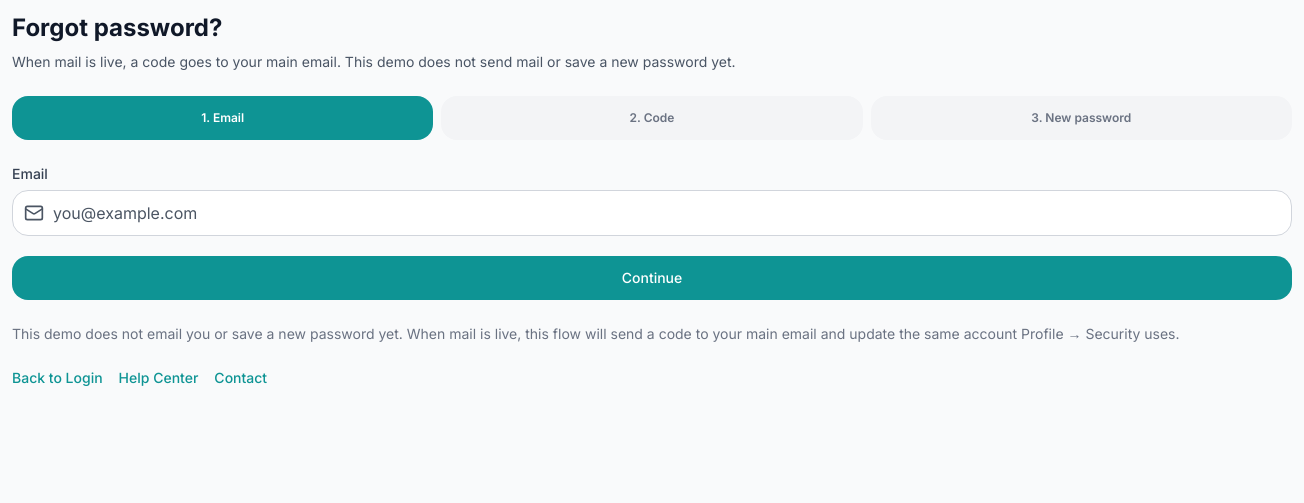
Test case: ForgotPasswordPage › walks email, mock OTP, and password without saving a new password
Type "anyone@example.com" into the field labelled "Email" at (652, 213), box [12,190,1292,236]
Click the button "Continue" at (652, 278), box [12,256,1292,300]
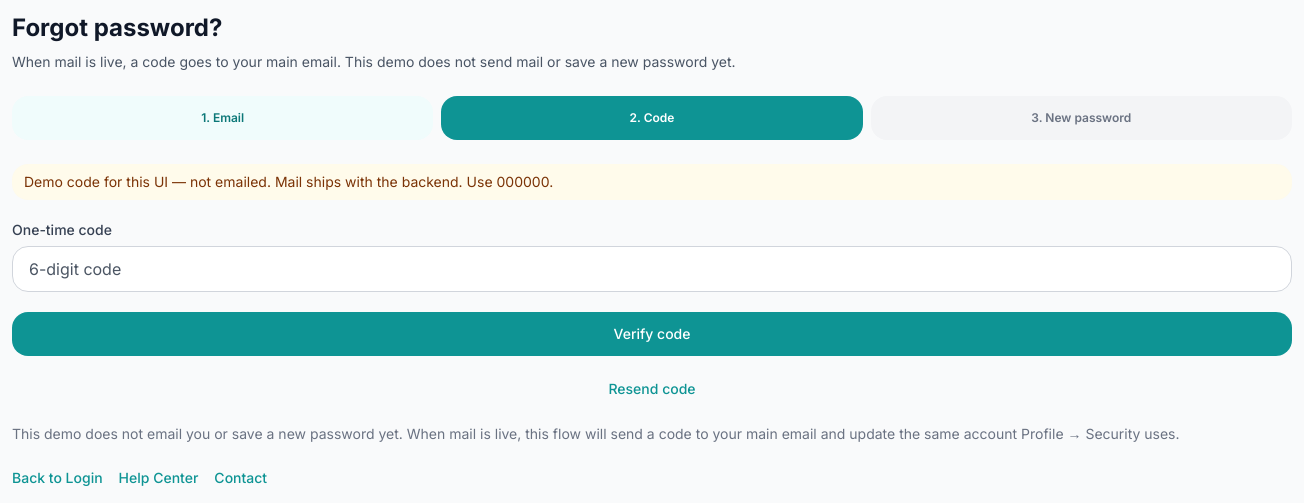
Check: the text "not emailed" is shown, box [24,173,553,190]
Type "000000" into the field labelled "One-time code" at (652, 269), box [12,246,1292,292]
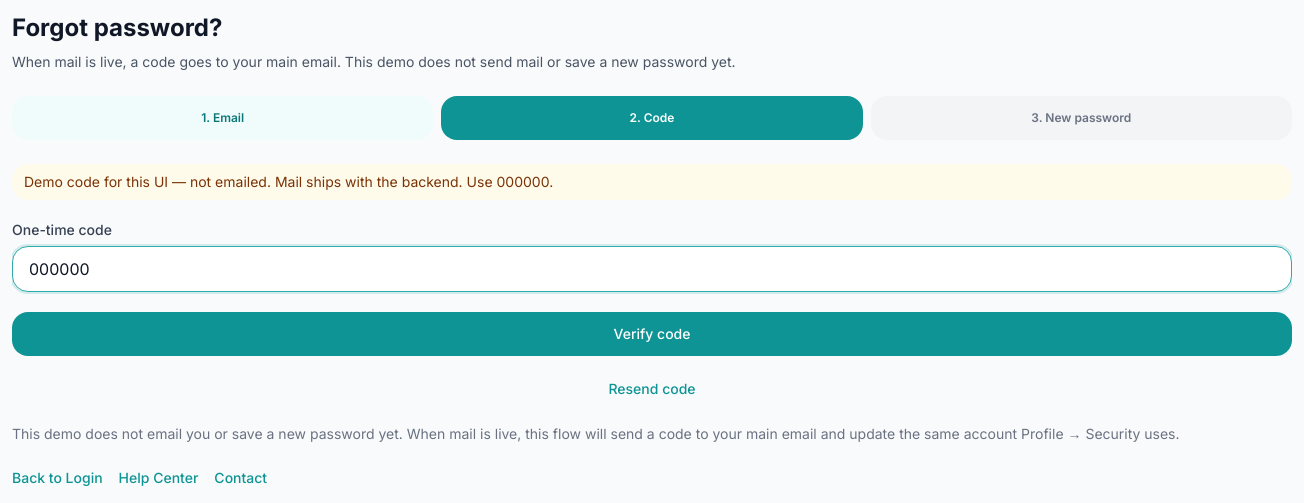
Click the button "Verify code" at (652, 334), box [12,312,1292,356]
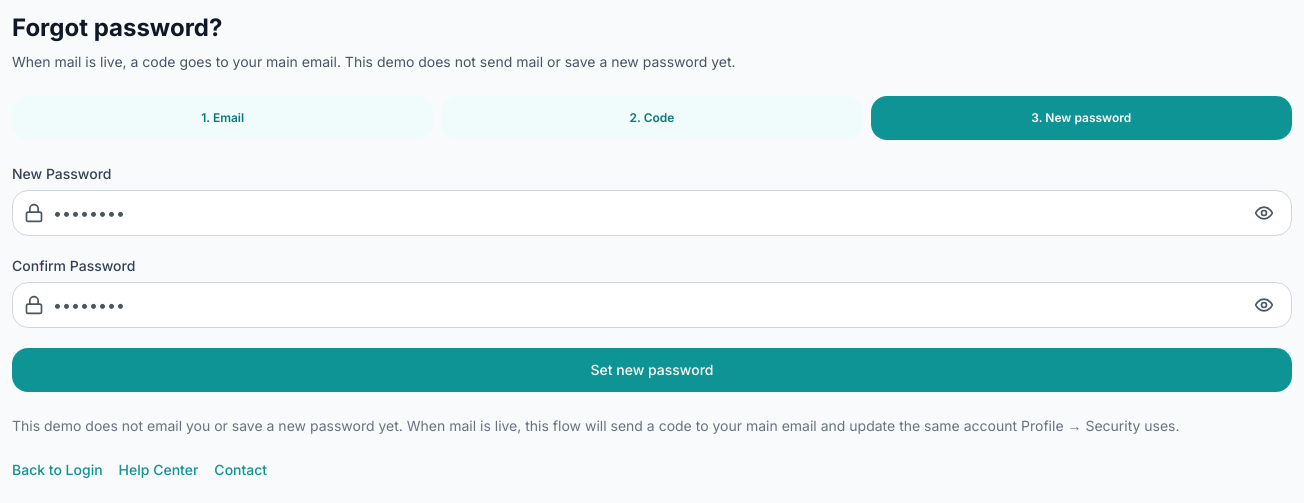
Type "changed99" into the password field labelled "New Password" at (652, 213), box [12,190,1292,236]
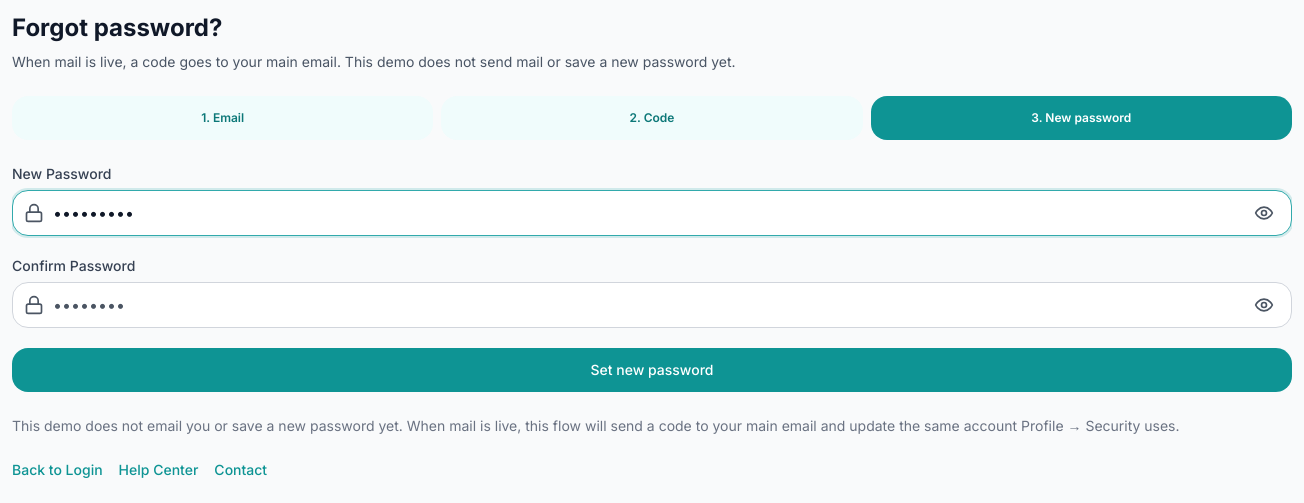
Type "changed99" into the password field labelled "Confirm Password" at (652, 305), box [12,282,1292,328]
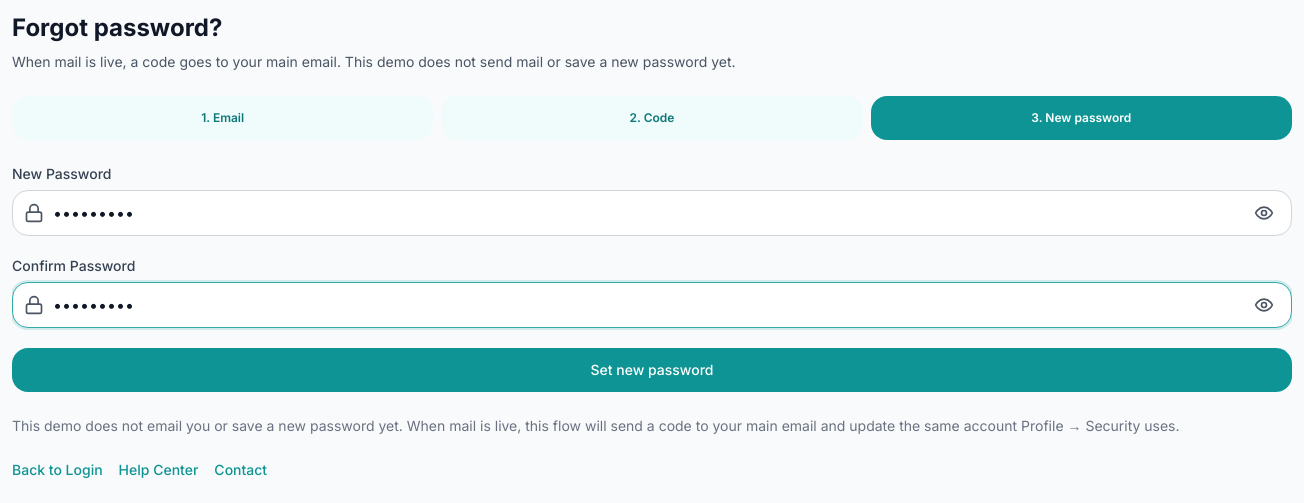
Click the button "Set new password" at (652, 370), box [12,348,1292,392]
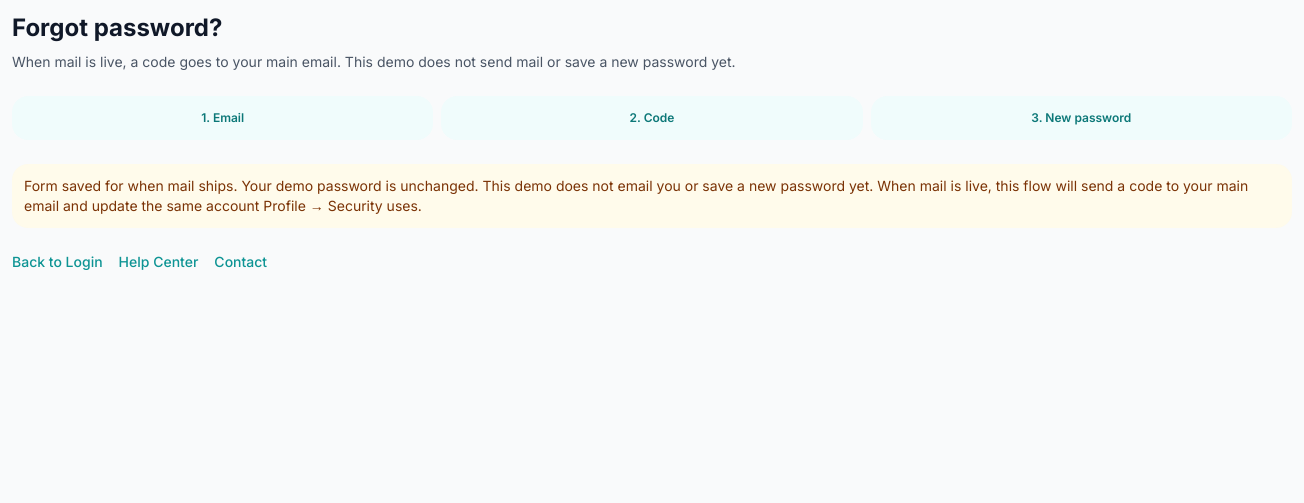
Check: the text "demo password is unchanged" is shown, box [24,177,479,194]
